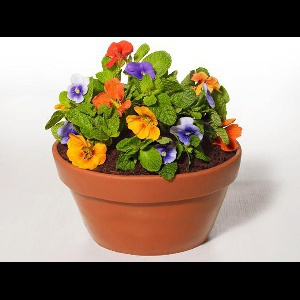flowerpot: (52, 126, 241, 255)
